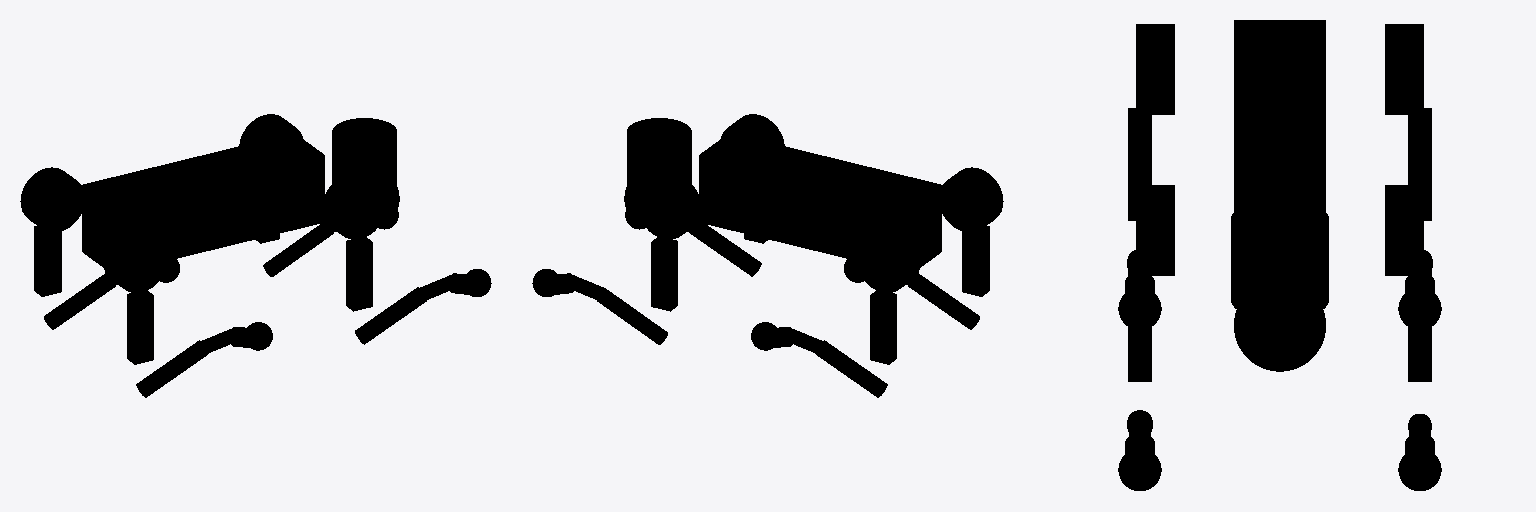
--- Facts derived from the render (not from the file) ---
Views: 3 orthographic renders of the robot side by side, from view 1: azimuth 30°, elevation 25°; view 2: azimuth 150°, elevation 25°; view 3: azimuth 270°, elevation 25°.
Model go2 with 29 links and 28 joints (12 revolute, 16 fixed), rooted at base, posed all joints at 0 but 4 set to mid-range because 0 is outside their limits (FL_calf_joint = -1.78, FR_calf_joint = -1.78, RL_calf_joint = -1.78, RR_calf_joint = -1.78).
Links seen in each view (by area): view 1: base, Head_upper, RR_hip, FR_hip, RL_hip, RR_thigh, FR_thigh, RL_thigh, FR_calf, RR_calf, RL_calf, FL_calf (+1 smaller); view 2: base, Head_upper, RL_hip, FL_hip, RR_hip, RL_thigh, FL_thigh, RR_thigh, RL_calf, RR_calf, FR_calf, FL_calf (+2 smaller); view 3: base, Head_upper, Head_lower, FL_hip, FR_hip, RL_hip, RR_hip, FL_thigh, FR_thigh, RL_thigh, RR_thigh, FL_foot (+1 smaller).
Link boxes in pixels (left/top/right/bottom): base: left=82, top=133, right=324, bottom=267; Head_upper: left=332, top=118, right=396, bottom=195; RR_hip: left=103, top=228, right=167, bottom=292; FR_hip: left=322, top=174, right=386, bottom=239; RL_hip: left=20, top=167, right=81, bottom=232; RR_thigh: left=127, top=291, right=153, bottom=364; FR_thigh: left=346, top=237, right=372, bottom=311; RL_thigh: left=34, top=226, right=61, bottom=296; FR_calf: left=355, top=287, right=426, bottom=344; RR_calf: left=136, top=340, right=208, bottom=397; RL_calf: left=44, top=273, right=115, bottom=329; FL_calf: left=263, top=222, right=333, bottom=276; base: left=699, top=133, right=941, bottom=267; Head_upper: left=627, top=118, right=691, bottom=195; RL_hip: left=856, top=228, right=920, bottom=292; FL_hip: left=637, top=174, right=701, bottom=239; RR_hip: left=942, top=167, right=1003, bottom=232; RL_thigh: left=870, top=291, right=896, bottom=364; FL_thigh: left=651, top=237, right=677, bottom=311; RR_thigh: left=962, top=226, right=989, bottom=296; RL_calf: left=815, top=340, right=887, bottom=397; RR_calf: left=908, top=273, right=979, bottom=329; FR_calf: left=689, top=222, right=761, bottom=276; FL_calf: left=597, top=289, right=667, bottom=344; base: left=1234, top=20, right=1325, bottom=210; Head_upper: left=1231, top=199, right=1328, bottom=320; Head_lower: left=1234, top=310, right=1325, bottom=371; FL_hip: left=1385, top=185, right=1423, bottom=275; FR_hip: left=1136, top=185, right=1174, bottom=275; RL_hip: left=1385, top=24, right=1423, bottom=114; RR_hip: left=1136, top=24, right=1174, bottom=114; FL_thigh: left=1408, top=269, right=1431, bottom=381; FR_thigh: left=1128, top=269, right=1151, bottom=381; RL_thigh: left=1408, top=108, right=1431, bottom=220; RR_thigh: left=1128, top=108, right=1151, bottom=220; FL_foot: left=1398, top=448, right=1441, bottom=490.
Bounding box of the posed robot: 0.6636 × 0.328 × 0.2851 m (x, y, z).
Geometry: primitives only (box / cylinder / sphere), no mesh files.

robot.urdf — go2:
<?xml version="0.0" ?>
<robot name="go2">
	<link name="base">
		<inertial>
			<origin rpy="0.00000 0.00000 0.00000" xyz="0.02111 0.00000 -0.00537"/>
			<mass value="6.92100"/>
			<inertia ixx="0.02448" ixy="0.00012" ixz="0.00148" iyy="0.09808" iyz="-0.00003" izz="0.10700"/>
		</inertial>
		<visual>
			<origin rpy="0.00000 0.00000 0.00000" xyz="0.00000 0.00000 0.00000"/>
			<geometry>
				<box size="0.37620 0.09350 0.11400"/>
			</geometry>
			<material name="">
				<color rgba="0.00000 0.00000 0.00000 0.50000" />
			</material>
		</visual>
		<collision>
			<origin rpy="0.00000 0.00000 0.00000" xyz="0.00000 0.00000 0.00000"/>
			<geometry>
				<box size="0.37620 0.09350 0.11400"/>
			</geometry>
		</collision>
	</link>
	<link name="Head_upper">
		<inertial>
			<origin rpy="0.00000 0.00000 0.00000" xyz="0.00000 0.00000 0.00000"/>
			<mass value="0.00100"/>
			<inertia ixx="0.00001" ixy="0.00000" ixz="0.00000" iyy="0.00001" iyz="0.00000" izz="0.00001"/>
		</inertial>
		<visual>
			<origin rpy="0.00000 0.00000 0.00000" xyz="0.00000 0.00000 0.00000"/>
			<geometry>
				<cylinder length="0.09000" radius="0.05000"/>
			</geometry>
			<material name="">
				<color rgba="0.00000 0.00000 0.00000 0.50000" />
			</material>
		</visual>
		<collision>
			<origin rpy="0.00000 0.00000 0.00000" xyz="0.00000 0.00000 0.00000"/>
			<geometry>
				<cylinder length="0.09000" radius="0.05000"/>
			</geometry>
		</collision>
	</link>
	<link name="Head_lower">
		<inertial>
			<origin rpy="0.00000 0.00000 0.00000" xyz="0.00000 0.00000 0.00000"/>
			<mass value="0.00100"/>
			<inertia ixx="0.00001" ixy="0.00000" ixz="0.00000" iyy="0.00001" iyz="0.00000" izz="0.00001"/>
		</inertial>
		<visual>
			<origin rpy="0.00000 0.00000 0.00000" xyz="0.00000 0.00000 0.00000"/>
			<geometry>
				<sphere radius="0.04700"/>
			</geometry>
			<material name="">
				<color rgba="0.00000 0.00000 0.00000 0.50000" />
			</material>
		</visual>
		<collision>
			<origin rpy="0.00000 0.00000 0.00000" xyz="0.00000 0.00000 0.00000"/>
			<geometry>
				<sphere radius="0.04700"/>
			</geometry>
		</collision>
	</link>
	<link name="FL_hip">
		<inertial>
			<origin rpy="0.00000 0.00000 0.00000" xyz="-0.00540 0.00194 -0.00011"/>
			<mass value="0.67800"/>
			<inertia ixx="0.00048" ixy="-0.00000" ixz="0.00000" iyy="0.00088" iyz="-0.00000" izz="0.00060"/>
		</inertial>
		<visual>
			<origin rpy="1.57080 0.00000 0.00000" xyz="0.00000 0.08000 0.00000"/>
			<geometry>
				<cylinder length="0.04000" radius="0.04600"/>
			</geometry>
			<material name="">
				<color rgba="0.00000 0.00000 0.00000 0.50000" />
			</material>
		</visual>
		<collision>
			<origin rpy="1.57080 0.00000 0.00000" xyz="0.00000 0.08000 0.00000"/>
			<geometry>
				<cylinder length="0.04000" radius="0.04600"/>
			</geometry>
		</collision>
	</link>
	<link name="FL_thigh">
		<inertial>
			<origin rpy="0.00000 0.00000 0.00000" xyz="-0.00374 -0.02230 -0.03270"/>
			<mass value="1.15200"/>
			<inertia ixx="0.00584" ixy="0.00009" ixz="-0.00029" iyy="0.00580" iyz="0.00081" izz="0.00103"/>
		</inertial>
		<visual>
			<origin rpy="0.00000 1.57080 0.00000" xyz="0.00000 0.00000 -0.10650"/>
			<geometry>
				<box size="0.11000 0.02450 0.03400"/>
			</geometry>
			<material name="">
				<color rgba="0.00000 0.00000 0.00000 0.50000" />
			</material>
		</visual>
		<collision>
			<origin rpy="0.00000 1.57080 0.00000" xyz="0.00000 0.00000 -0.10650"/>
			<geometry>
				<box size="0.11000 0.02450 0.03400"/>
			</geometry>
		</collision>
	</link>
	<link name="FL_calf">
		<inertial>
			<origin rpy="0.00000 0.00000 0.00000" xyz="0.00548 -0.00097 -0.11500"/>
			<mass value="0.15400"/>
			<inertia ixx="0.00108" ixy="0.00000" ixz="0.00002" iyy="0.00110" iyz="0.00001" izz="0.00003"/>
		</inertial>
		<visual>
			<origin rpy="0.00000 -0.21000 0.00000" xyz="0.00800 0.00000 -0.06000"/>
			<geometry>
				<cylinder length="0.12000" radius="0.01200"/>
			</geometry>
			<material name="">
				<color rgba="0.00000 0.00000 0.00000 0.50000" />
			</material>
		</visual>
		<collision>
			<origin rpy="0.00000 -0.21000 0.00000" xyz="0.00800 0.00000 -0.06000"/>
			<geometry>
				<cylinder length="0.12000" radius="0.01200"/>
			</geometry>
		</collision>
	</link>
	<link name="FL_calflower">
		<inertial>
			<origin rpy="0.00000 0.00000 0.00000" xyz="0.00000 0.00000 0.00000"/>
			<mass value="0.00100"/>
			<inertia ixx="0.00001" ixy="0.00000" ixz="0.00000" iyy="0.00001" iyz="0.00000" izz="0.00001"/>
		</inertial>
		<visual>
			<origin rpy="0.00000 0.00000 0.00000" xyz="0.00000 0.00000 0.00000"/>
			<geometry>
				<cylinder length="0.06500" radius="0.01100"/>
			</geometry>
			<material name="">
				<color rgba="0.00000 0.00000 0.00000 0.50000" />
			</material>
		</visual>
		<collision>
			<origin rpy="0.00000 0.00000 0.00000" xyz="0.00000 0.00000 0.00000"/>
			<geometry>
				<cylinder length="0.06500" radius="0.01100"/>
			</geometry>
		</collision>
	</link>
	<link name="FL_calflower1">
		<inertial>
			<origin rpy="0.00000 0.00000 0.00000" xyz="0.00000 0.00000 0.00000"/>
			<mass value="0.00100"/>
			<inertia ixx="0.00001" ixy="0.00000" ixz="0.00000" iyy="0.00001" iyz="0.00000" izz="0.00001"/>
		</inertial>
		<visual>
			<origin rpy="0.00000 0.00000 0.00000" xyz="0.00000 0.00000 0.00000"/>
			<geometry>
				<cylinder length="0.03000" radius="0.01550"/>
			</geometry>
			<material name="">
				<color rgba="0.00000 0.00000 0.00000 0.50000" />
			</material>
		</visual>
		<collision>
			<origin rpy="0.00000 0.00000 0.00000" xyz="0.00000 0.00000 0.00000"/>
			<geometry>
				<cylinder length="0.03000" radius="0.01550"/>
			</geometry>
		</collision>
	</link>
	<link name="FL_foot">
		<inertial>
			<origin rpy="0.00000 0.00000 0.00000" xyz="0.00000 0.00000 0.00000"/>
			<mass value="0.04000"/>
			<inertia ixx="0.00001" ixy="0.00000" ixz="0.00000" iyy="0.00001" iyz="0.00000" izz="0.00001"/>
		</inertial>
		<visual>
			<origin rpy="0.00000 0.00000 0.00000" xyz="-0.00200 0.00000 0.00000"/>
			<geometry>
				<sphere radius="0.02200"/>
			</geometry>
			<material name="">
				<color rgba="0.00000 0.00000 0.00000 0.50000" />
			</material>
		</visual>
		<collision>
			<origin rpy="0.00000 0.00000 0.00000" xyz="-0.00200 0.00000 0.00000"/>
			<geometry>
				<sphere radius="0.02200"/>
			</geometry>
		</collision>
	</link>
	<link name="FR_hip">
		<inertial>
			<origin rpy="0.00000 0.00000 0.00000" xyz="-0.00540 -0.00194 -0.00011"/>
			<mass value="0.67800"/>
			<inertia ixx="0.00048" ixy="0.00000" ixz="0.00000" iyy="0.00088" iyz="0.00000" izz="0.00060"/>
		</inertial>
		<visual>
			<origin rpy="1.57080 0.00000 0.00000" xyz="0.00000 -0.08000 0.00000"/>
			<geometry>
				<cylinder length="0.04000" radius="0.04600"/>
			</geometry>
			<material name="">
				<color rgba="0.00000 0.00000 0.00000 0.50000" />
			</material>
		</visual>
		<collision>
			<origin rpy="1.57080 0.00000 0.00000" xyz="0.00000 -0.08000 0.00000"/>
			<geometry>
				<cylinder length="0.04000" radius="0.04600"/>
			</geometry>
		</collision>
	</link>
	<link name="FR_thigh">
		<inertial>
			<origin rpy="0.00000 0.00000 0.00000" xyz="-0.00374 0.02230 -0.03270"/>
			<mass value="1.15200"/>
			<inertia ixx="0.00584" ixy="-0.00009" ixz="-0.00029" iyy="0.00580" iyz="-0.00081" izz="0.00103"/>
		</inertial>
		<visual>
			<origin rpy="0.00000 1.57080 0.00000" xyz="0.00000 0.00000 -0.10650"/>
			<geometry>
				<box size="0.11000 0.02450 0.03400"/>
			</geometry>
			<material name="">
				<color rgba="0.00000 0.00000 0.00000 0.50000" />
			</material>
		</visual>
		<collision>
			<origin rpy="0.00000 1.57080 0.00000" xyz="0.00000 0.00000 -0.10650"/>
			<geometry>
				<box size="0.11000 0.02450 0.03400"/>
			</geometry>
		</collision>
	</link>
	<link name="FR_calf">
		<inertial>
			<origin rpy="0.00000 0.00000 0.00000" xyz="0.00548 0.00097 -0.11500"/>
			<mass value="0.15400"/>
			<inertia ixx="0.00108" ixy="-0.00000" ixz="0.00002" iyy="0.00110" iyz="-0.00001" izz="0.00003"/>
		</inertial>
		<visual>
			<origin rpy="0.00000 -0.20000 0.00000" xyz="0.01000 0.00000 -0.06000"/>
			<geometry>
				<cylinder length="0.12000" radius="0.01300"/>
			</geometry>
			<material name="">
				<color rgba="0.00000 0.00000 0.00000 0.50000" />
			</material>
		</visual>
		<collision>
			<origin rpy="0.00000 -0.20000 0.00000" xyz="0.01000 0.00000 -0.06000"/>
			<geometry>
				<cylinder length="0.12000" radius="0.01300"/>
			</geometry>
		</collision>
	</link>
	<link name="FR_calflower">
		<inertial>
			<origin rpy="0.00000 0.00000 0.00000" xyz="0.00000 0.00000 0.00000"/>
			<mass value="0.00100"/>
			<inertia ixx="0.00001" ixy="0.00000" ixz="0.00000" iyy="0.00001" iyz="0.00000" izz="0.00001"/>
		</inertial>
		<visual>
			<origin rpy="0.00000 0.00000 0.00000" xyz="0.00000 0.00000 0.00000"/>
			<geometry>
				<cylinder length="0.06500" radius="0.01100"/>
			</geometry>
			<material name="">
				<color rgba="0.00000 0.00000 0.00000 0.50000" />
			</material>
		</visual>
		<collision>
			<origin rpy="0.00000 0.00000 0.00000" xyz="0.00000 0.00000 0.00000"/>
			<geometry>
				<cylinder length="0.06500" radius="0.01100"/>
			</geometry>
		</collision>
	</link>
	<link name="FR_calflower1">
		<inertial>
			<origin rpy="0.00000 0.00000 0.00000" xyz="0.00000 0.00000 0.00000"/>
			<mass value="0.00100"/>
			<inertia ixx="0.00001" ixy="0.00000" ixz="0.00000" iyy="0.00001" iyz="0.00000" izz="0.00001"/>
		</inertial>
		<visual>
			<origin rpy="0.00000 0.00000 0.00000" xyz="0.00000 0.00000 0.00000"/>
			<geometry>
				<cylinder length="0.03000" radius="0.01550"/>
			</geometry>
			<material name="">
				<color rgba="0.00000 0.00000 0.00000 0.50000" />
			</material>
		</visual>
		<collision>
			<origin rpy="0.00000 0.00000 0.00000" xyz="0.00000 0.00000 0.00000"/>
			<geometry>
				<cylinder length="0.03000" radius="0.01550"/>
			</geometry>
		</collision>
	</link>
	<link name="FR_foot">
		<inertial>
			<origin rpy="0.00000 0.00000 0.00000" xyz="0.00000 0.00000 0.00000"/>
			<mass value="0.04000"/>
			<inertia ixx="0.00001" ixy="0.00000" ixz="0.00000" iyy="0.00001" iyz="0.00000" izz="0.00001"/>
		</inertial>
		<visual>
			<origin rpy="0.00000 0.00000 0.00000" xyz="-0.00200 0.00000 0.00000"/>
			<geometry>
				<sphere radius="0.02200"/>
			</geometry>
			<material name="">
				<color rgba="0.00000 0.00000 0.00000 0.50000" />
			</material>
		</visual>
		<collision>
			<origin rpy="0.00000 0.00000 0.00000" xyz="-0.00200 0.00000 0.00000"/>
			<geometry>
				<sphere radius="0.02200"/>
			</geometry>
		</collision>
	</link>
	<link name="RL_hip">
		<inertial>
			<origin rpy="0.00000 0.00000 0.00000" xyz="0.00540 0.00194 -0.00011"/>
			<mass value="0.67800"/>
			<inertia ixx="0.00048" ixy="0.00000" ixz="-0.00000" iyy="0.00088" iyz="-0.00000" izz="0.00060"/>
		</inertial>
		<visual>
			<origin rpy="1.57080 0.00000 0.00000" xyz="0.00000 0.08000 0.00000"/>
			<geometry>
				<cylinder length="0.04000" radius="0.04600"/>
			</geometry>
			<material name="">
				<color rgba="0.00000 0.00000 0.00000 0.50000" />
			</material>
		</visual>
		<collision>
			<origin rpy="1.57080 0.00000 0.00000" xyz="0.00000 0.08000 0.00000"/>
			<geometry>
				<cylinder length="0.04000" radius="0.04600"/>
			</geometry>
		</collision>
	</link>
	<link name="RL_thigh">
		<inertial>
			<origin rpy="0.00000 0.00000 0.00000" xyz="-0.00374 -0.02230 -0.03270"/>
			<mass value="1.15200"/>
			<inertia ixx="0.00584" ixy="0.00009" ixz="-0.00029" iyy="0.00580" iyz="0.00081" izz="0.00103"/>
		</inertial>
		<visual>
			<origin rpy="0.00000 1.57080 0.00000" xyz="0.00000 0.00000 -0.10650"/>
			<geometry>
				<box size="0.11000 0.02450 0.03400"/>
			</geometry>
			<material name="">
				<color rgba="0.00000 0.00000 0.00000 0.50000" />
			</material>
		</visual>
		<collision>
			<origin rpy="0.00000 1.57080 0.00000" xyz="0.00000 0.00000 -0.10650"/>
			<geometry>
				<box size="0.11000 0.02450 0.03400"/>
			</geometry>
		</collision>
	</link>
	<link name="RL_calf">
		<inertial>
			<origin rpy="0.00000 0.00000 0.00000" xyz="0.00548 -0.00097 -0.11500"/>
			<mass value="0.15400"/>
			<inertia ixx="0.00108" ixy="0.00000" ixz="0.00002" iyy="0.00110" iyz="0.00001" izz="0.00003"/>
		</inertial>
		<visual>
			<origin rpy="0.00000 -0.20000 0.00000" xyz="0.01000 0.00000 -0.06000"/>
			<geometry>
				<cylinder length="0.12000" radius="0.01300"/>
			</geometry>
			<material name="">
				<color rgba="0.00000 0.00000 0.00000 0.50000" />
			</material>
		</visual>
		<collision>
			<origin rpy="0.00000 -0.20000 0.00000" xyz="0.01000 0.00000 -0.06000"/>
			<geometry>
				<cylinder length="0.12000" radius="0.01300"/>
			</geometry>
		</collision>
	</link>
	<link name="RL_calflower">
		<inertial>
			<origin rpy="0.00000 0.00000 0.00000" xyz="0.00000 0.00000 0.00000"/>
			<mass value="0.00100"/>
			<inertia ixx="0.00001" ixy="0.00000" ixz="0.00000" iyy="0.00001" iyz="0.00000" izz="0.00001"/>
		</inertial>
		<visual>
			<origin rpy="0.00000 0.00000 0.00000" xyz="0.00000 0.00000 0.00000"/>
			<geometry>
				<cylinder length="0.06500" radius="0.01100"/>
			</geometry>
			<material name="">
				<color rgba="0.00000 0.00000 0.00000 0.50000" />
			</material>
		</visual>
		<collision>
			<origin rpy="0.00000 0.00000 0.00000" xyz="0.00000 0.00000 0.00000"/>
			<geometry>
				<cylinder length="0.06500" radius="0.01100"/>
			</geometry>
		</collision>
	</link>
	<link name="RL_calflower1">
		<inertial>
			<origin rpy="0.00000 0.00000 0.00000" xyz="0.00000 0.00000 0.00000"/>
			<mass value="0.00100"/>
			<inertia ixx="0.00001" ixy="0.00000" ixz="0.00000" iyy="0.00001" iyz="0.00000" izz="0.00001"/>
		</inertial>
		<visual>
			<origin rpy="0.00000 0.00000 0.00000" xyz="0.00000 0.00000 0.00000"/>
			<geometry>
				<cylinder length="0.03000" radius="0.01550"/>
			</geometry>
			<material name="">
				<color rgba="0.00000 0.00000 0.00000 0.50000" />
			</material>
		</visual>
		<collision>
			<origin rpy="0.00000 0.00000 0.00000" xyz="0.00000 0.00000 0.00000"/>
			<geometry>
				<cylinder length="0.03000" radius="0.01550"/>
			</geometry>
		</collision>
	</link>
	<link name="RL_foot">
		<inertial>
			<origin rpy="0.00000 0.00000 0.00000" xyz="0.00000 0.00000 0.00000"/>
			<mass value="0.04000"/>
			<inertia ixx="0.00001" ixy="0.00000" ixz="0.00000" iyy="0.00001" iyz="0.00000" izz="0.00001"/>
		</inertial>
		<visual>
			<origin rpy="0.00000 0.00000 0.00000" xyz="-0.00200 0.00000 0.00000"/>
			<geometry>
				<sphere radius="0.02200"/>
			</geometry>
			<material name="">
				<color rgba="0.00000 0.00000 0.00000 0.50000" />
			</material>
		</visual>
		<collision>
			<origin rpy="0.00000 0.00000 0.00000" xyz="-0.00200 0.00000 0.00000"/>
			<geometry>
				<sphere radius="0.02200"/>
			</geometry>
		</collision>
	</link>
	<link name="RR_hip">
		<inertial>
			<origin rpy="0.00000 0.00000 0.00000" xyz="0.00540 -0.00194 -0.00011"/>
			<mass value="0.67800"/>
			<inertia ixx="0.00048" ixy="-0.00000" ixz="-0.00000" iyy="0.00088" iyz="0.00000" izz="0.00060"/>
		</inertial>
		<visual>
			<origin rpy="1.57080 0.00000 0.00000" xyz="0.00000 -0.08000 0.00000"/>
			<geometry>
				<cylinder length="0.04000" radius="0.04600"/>
			</geometry>
			<material name="">
				<color rgba="0.00000 0.00000 0.00000 0.50000" />
			</material>
		</visual>
		<collision>
			<origin rpy="1.57080 0.00000 0.00000" xyz="0.00000 -0.08000 0.00000"/>
			<geometry>
				<cylinder length="0.04000" radius="0.04600"/>
			</geometry>
		</collision>
	</link>
	<link name="RR_thigh">
		<inertial>
			<origin rpy="0.00000 0.00000 0.00000" xyz="-0.00374 0.02230 -0.03270"/>
			<mass value="1.15200"/>
			<inertia ixx="0.00584" ixy="-0.00009" ixz="-0.00029" iyy="0.00580" iyz="-0.00081" izz="0.00103"/>
		</inertial>
		<visual>
			<origin rpy="0.00000 1.57080 0.00000" xyz="0.00000 0.00000 -0.10650"/>
			<geometry>
				<box size="0.11000 0.02450 0.03400"/>
			</geometry>
			<material name="">
				<color rgba="0.00000 0.00000 0.00000 0.50000" />
			</material>
		</visual>
		<collision>
			<origin rpy="0.00000 1.57080 0.00000" xyz="0.00000 0.00000 -0.10650"/>
			<geometry>
				<box size="0.11000 0.02450 0.03400"/>
			</geometry>
		</collision>
	</link>
	<link name="RR_calf">
		<inertial>
			<origin rpy="0.00000 0.00000 0.00000" xyz="0.00548 0.00097 -0.11500"/>
			<mass value="0.15400"/>
			<inertia ixx="0.00108" ixy="-0.00000" ixz="0.00002" iyy="0.00110" iyz="-0.00001" izz="0.00003"/>
		</inertial>
		<visual>
			<origin rpy="0.00000 -0.20000 0.00000" xyz="0.01000 0.00000 -0.06000"/>
			<geometry>
				<cylinder length="0.12000" radius="0.01300"/>
			</geometry>
			<material name="">
				<color rgba="0.00000 0.00000 0.00000 0.50000" />
			</material>
		</visual>
		<collision>
			<origin rpy="0.00000 -0.20000 0.00000" xyz="0.01000 0.00000 -0.06000"/>
			<geometry>
				<cylinder length="0.12000" radius="0.01300"/>
			</geometry>
		</collision>
	</link>
	<link name="RR_calflower">
		<inertial>
			<origin rpy="0.00000 0.00000 0.00000" xyz="0.00000 0.00000 0.00000"/>
			<mass value="0.00100"/>
			<inertia ixx="0.00001" ixy="0.00000" ixz="0.00000" iyy="0.00001" iyz="0.00000" izz="0.00001"/>
		</inertial>
		<visual>
			<origin rpy="0.00000 0.00000 0.00000" xyz="0.00000 0.00000 0.00000"/>
			<geometry>
				<cylinder length="0.06500" radius="0.01100"/>
			</geometry>
			<material name="">
				<color rgba="0.00000 0.00000 0.00000 0.50000" />
			</material>
		</visual>
		<collision>
			<origin rpy="0.00000 0.00000 0.00000" xyz="0.00000 0.00000 0.00000"/>
			<geometry>
				<cylinder length="0.06500" radius="0.01100"/>
			</geometry>
		</collision>
	</link>
	<link name="RR_calflower1">
		<inertial>
			<origin rpy="0.00000 0.00000 0.00000" xyz="0.00000 0.00000 0.00000"/>
			<mass value="0.00100"/>
			<inertia ixx="0.00001" ixy="0.00000" ixz="0.00000" iyy="0.00001" iyz="0.00000" izz="0.00001"/>
		</inertial>
		<visual>
			<origin rpy="0.00000 0.00000 0.00000" xyz="0.00000 0.00000 0.00000"/>
			<geometry>
				<cylinder length="0.03000" radius="0.01550"/>
			</geometry>
			<material name="">
				<color rgba="0.00000 0.00000 0.00000 0.50000" />
			</material>
		</visual>
		<collision>
			<origin rpy="0.00000 0.00000 0.00000" xyz="0.00000 0.00000 0.00000"/>
			<geometry>
				<cylinder length="0.03000" radius="0.01550"/>
			</geometry>
		</collision>
	</link>
	<link name="RR_foot">
		<inertial>
			<origin rpy="0.00000 0.00000 0.00000" xyz="0.00000 0.00000 0.00000"/>
			<mass value="0.04000"/>
			<inertia ixx="0.00001" ixy="0.00000" ixz="0.00000" iyy="0.00001" iyz="0.00000" izz="0.00001"/>
		</inertial>
		<visual>
			<origin rpy="0.00000 0.00000 0.00000" xyz="-0.00200 0.00000 0.00000"/>
			<geometry>
				<sphere radius="0.02200"/>
			</geometry>
			<material name="">
				<color rgba="0.00000 0.00000 0.00000 0.50000" />
			</material>
		</visual>
		<collision>
			<origin rpy="0.00000 0.00000 0.00000" xyz="-0.00200 0.00000 0.00000"/>
			<geometry>
				<sphere radius="0.02200"/>
			</geometry>
		</collision>
	</link>
	<link name="imu">
		<inertial>
			<origin rpy="0.00000 0.00000 0.00000" xyz="0.00000 0.00000 0.00000"/>
			<mass value="0.00000"/>
			<inertia ixx="0.00000" ixy="0.00000" ixz="0.00000" iyy="0.00000" iyz="0.00000" izz="0.00000"/>
		</inertial>
	</link>
	<link name="radar">
		<inertial>
			<origin rpy="0.00000 0.00000 0.00000" xyz="0.00000 0.00000 0.00000"/>
			<mass value="0.00000"/>
			<inertia ixx="0.00000" ixy="0.00000" ixz="0.00000" iyy="0.00000" iyz="0.00000" izz="0.00000"/>
		</inertial>
	</link>
	<joint name="Head_upper_joint" type="fixed">
		<parent link="base"/>
		<child link="Head_upper"/>
		<dynamics damping="0.00000" friction="0.00000"/>
		<origin rpy="0.00000 0.00000 0.00000" xyz="0.28500 0.00000 0.01000"/>
		<axis xyz="0.00000 0.00000 0.00000"/>
	</joint>
	<joint name="Head_lower_joint" type="fixed">
		<parent link="Head_upper"/>
		<child link="Head_lower"/>
		<dynamics damping="0.00000" friction="0.00000"/>
		<origin rpy="0.00000 0.00000 0.00000" xyz="0.00800 0.00000 -0.07000"/>
		<axis xyz="0.00000 0.00000 0.00000"/>
	</joint>
	<joint name="FL_hip_joint" type="revolute">
		<parent link="base"/>
		<child link="FL_hip"/>
		<limit effort="23.70000" lower="-1.04720" upper="1.04720" velocity="30.10000"/>
		<dynamics damping="0.00000" friction="0.00000"/>
		<origin rpy="0.00000 0.00000 0.00000" xyz="0.19340 0.04650 0.00000"/>
		<axis xyz="1.00000 0.00000 0.00000"/>
	</joint>
	<joint name="FL_thigh_joint" type="revolute">
		<parent link="FL_hip"/>
		<child link="FL_thigh"/>
		<limit effort="23.70000" lower="-1.57080" upper="3.49070" velocity="30.10000"/>
		<dynamics damping="0.00000" friction="0.00000"/>
		<origin rpy="0.00000 0.00000 0.00000" xyz="0.00000 0.09550 0.00000"/>
		<axis xyz="0.00000 1.00000 0.00000"/>
	</joint>
	<joint name="FL_calf_joint" type="revolute">
		<parent link="FL_thigh"/>
		<child link="FL_calf"/>
		<limit effort="35.55000" lower="-2.72270" upper="-0.83776" velocity="20.07000"/>
		<dynamics damping="0.00000" friction="0.00000"/>
		<origin rpy="0.00000 0.00000 0.00000" xyz="0.00000 0.00000 -0.21300"/>
		<axis xyz="0.00000 1.00000 0.00000"/>
	</joint>
	<joint name="FL_calflower_joint" type="fixed">
		<parent link="FL_calf"/>
		<child link="FL_calflower"/>
		<dynamics damping="0.00000" friction="0.00000"/>
		<origin rpy="0.00000 0.05000 0.00000" xyz="0.02000 0.00000 -0.14800"/>
		<axis xyz="0.00000 0.00000 0.00000"/>
	</joint>
	<joint name="FL_calflower1_joint" type="fixed">
		<parent link="FL_calflower"/>
		<child link="FL_calflower1"/>
		<dynamics damping="0.00000" friction="0.00000"/>
		<origin rpy="0.00000 0.48000 0.00000" xyz="-0.01000 0.00000 -0.04000"/>
		<axis xyz="0.00000 0.00000 0.00000"/>
	</joint>
	<joint name="FL_foot_joint" type="fixed">
		<parent link="FL_calf"/>
		<child link="FL_foot"/>
		<dynamics damping="0.00000" friction="0.00000"/>
		<origin rpy="0.00000 0.00000 0.00000" xyz="0.00000 0.00000 -0.21300"/>
		<axis xyz="0.00000 0.00000 0.00000"/>
	</joint>
	<joint name="FR_hip_joint" type="revolute">
		<parent link="base"/>
		<child link="FR_hip"/>
		<limit effort="23.70000" lower="-1.04720" upper="1.04720" velocity="30.10000"/>
		<dynamics damping="0.00000" friction="0.00000"/>
		<origin rpy="0.00000 0.00000 0.00000" xyz="0.19340 -0.04650 0.00000"/>
		<axis xyz="1.00000 0.00000 0.00000"/>
	</joint>
	<joint name="FR_thigh_joint" type="revolute">
		<parent link="FR_hip"/>
		<child link="FR_thigh"/>
		<limit effort="23.70000" lower="-1.57080" upper="3.49070" velocity="30.10000"/>
		<dynamics damping="0.00000" friction="0.00000"/>
		<origin rpy="0.00000 0.00000 0.00000" xyz="0.00000 -0.09550 0.00000"/>
		<axis xyz="0.00000 1.00000 0.00000"/>
	</joint>
	<joint name="FR_calf_joint" type="revolute">
		<parent link="FR_thigh"/>
		<child link="FR_calf"/>
		<limit effort="35.55000" lower="-2.72270" upper="-0.83776" velocity="20.07000"/>
		<dynamics damping="0.00000" friction="0.00000"/>
		<origin rpy="0.00000 0.00000 0.00000" xyz="0.00000 0.00000 -0.21300"/>
		<axis xyz="0.00000 1.00000 0.00000"/>
	</joint>
	<joint name="FR_calflower_joint" type="fixed">
		<parent link="FR_calf"/>
		<child link="FR_calflower"/>
		<dynamics damping="0.00000" friction="0.00000"/>
		<origin rpy="0.00000 0.05000 0.00000" xyz="0.02000 0.00000 -0.14800"/>
		<axis xyz="0.00000 0.00000 0.00000"/>
	</joint>
	<joint name="FR_calflower1_joint" type="fixed">
		<parent link="FR_calflower"/>
		<child link="FR_calflower1"/>
		<dynamics damping="0.00000" friction="0.00000"/>
		<origin rpy="0.00000 0.48000 0.00000" xyz="-0.01000 0.00000 -0.04000"/>
		<axis xyz="0.00000 0.00000 0.00000"/>
	</joint>
	<joint name="FR_foot_joint" type="fixed">
		<parent link="FR_calf"/>
		<child link="FR_foot"/>
		<dynamics damping="0.00000" friction="0.00000"/>
		<origin rpy="0.00000 0.00000 0.00000" xyz="0.00000 0.00000 -0.21300"/>
		<axis xyz="0.00000 0.00000 0.00000"/>
	</joint>
	<joint name="RL_hip_joint" type="revolute">
		<parent link="base"/>
		<child link="RL_hip"/>
		<limit effort="23.70000" lower="-1.04720" upper="1.04720" velocity="30.10000"/>
		<dynamics damping="0.00000" friction="0.00000"/>
		<origin rpy="0.00000 0.00000 0.00000" xyz="-0.19340 0.04650 0.00000"/>
		<axis xyz="1.00000 0.00000 0.00000"/>
	</joint>
	<joint name="RL_thigh_joint" type="revolute">
		<parent link="RL_hip"/>
		<child link="RL_thigh"/>
		<limit effort="23.70000" lower="-0.52360" upper="4.53790" velocity="30.10000"/>
		<dynamics damping="0.00000" friction="0.00000"/>
		<origin rpy="0.00000 0.00000 0.00000" xyz="0.00000 0.09550 0.00000"/>
		<axis xyz="0.00000 1.00000 0.00000"/>
	</joint>
	<joint name="RL_calf_joint" type="revolute">
		<parent link="RL_thigh"/>
		<child link="RL_calf"/>
		<limit effort="35.55000" lower="-2.72270" upper="-0.83776" velocity="20.07000"/>
		<dynamics damping="0.00000" friction="0.00000"/>
		<origin rpy="0.00000 0.00000 0.00000" xyz="0.00000 0.00000 -0.21300"/>
		<axis xyz="0.00000 1.00000 0.00000"/>
	</joint>
	<joint name="RL_calflower_joint" type="fixed">
		<parent link="RL_calf"/>
		<child link="RL_calflower"/>
		<dynamics damping="0.00000" friction="0.00000"/>
		<origin rpy="0.00000 0.05000 0.00000" xyz="0.02000 0.00000 -0.14800"/>
		<axis xyz="0.00000 0.00000 0.00000"/>
	</joint>
	<joint name="RL_calflower1_joint" type="fixed">
		<parent link="RL_calflower"/>
		<child link="RL_calflower1"/>
		<dynamics damping="0.00000" friction="0.00000"/>
		<origin rpy="0.00000 0.48000 0.00000" xyz="-0.01000 0.00000 -0.04000"/>
		<axis xyz="0.00000 0.00000 0.00000"/>
	</joint>
	<joint name="RL_foot_joint" type="fixed">
		<parent link="RL_calf"/>
		<child link="RL_foot"/>
		<dynamics damping="0.00000" friction="0.00000"/>
		<origin rpy="0.00000 0.00000 0.00000" xyz="0.00000 0.00000 -0.21300"/>
		<axis xyz="0.00000 0.00000 0.00000"/>
	</joint>
	<joint name="RR_hip_joint" type="revolute">
		<parent link="base"/>
		<child link="RR_hip"/>
		<limit effort="23.70000" lower="-1.04720" upper="1.04720" velocity="30.10000"/>
		<dynamics damping="0.00000" friction="0.00000"/>
		<origin rpy="0.00000 0.00000 0.00000" xyz="-0.19340 -0.04650 0.00000"/>
		<axis xyz="1.00000 0.00000 0.00000"/>
	</joint>
	<joint name="RR_thigh_joint" type="revolute">
		<parent link="RR_hip"/>
		<child link="RR_thigh"/>
		<limit effort="23.70000" lower="-0.52360" upper="4.53790" velocity="30.10000"/>
		<dynamics damping="0.00000" friction="0.00000"/>
		<origin rpy="0.00000 0.00000 0.00000" xyz="0.00000 -0.09550 0.00000"/>
		<axis xyz="0.00000 1.00000 0.00000"/>
	</joint>
	<joint name="RR_calf_joint" type="revolute">
		<parent link="RR_thigh"/>
		<child link="RR_calf"/>
		<limit effort="35.55000" lower="-2.72270" upper="-0.83776" velocity="20.07000"/>
		<dynamics damping="0.00000" friction="0.00000"/>
		<origin rpy="0.00000 0.00000 0.00000" xyz="0.00000 0.00000 -0.21300"/>
		<axis xyz="0.00000 1.00000 0.00000"/>
	</joint>
	<joint name="RR_calflower_joint" type="fixed">
		<parent link="RR_calf"/>
		<child link="RR_calflower"/>
		<dynamics damping="0.00000" friction="0.00000"/>
		<origin rpy="0.00000 0.05000 0.00000" xyz="0.02000 0.00000 -0.14800"/>
		<axis xyz="0.00000 0.00000 0.00000"/>
	</joint>
	<joint name="RR_calflower1_joint" type="fixed">
		<parent link="RR_calflower"/>
		<child link="RR_calflower1"/>
		<dynamics damping="0.00000" friction="0.00000"/>
		<origin rpy="0.00000 0.48000 0.00000" xyz="-0.01000 0.00000 -0.04000"/>
		<axis xyz="0.00000 0.00000 0.00000"/>
	</joint>
	<joint name="RR_foot_joint" type="fixed">
		<parent link="RR_calf"/>
		<child link="RR_foot"/>
		<dynamics damping="0.00000" friction="0.00000"/>
		<origin rpy="0.00000 0.00000 0.00000" xyz="0.00000 0.00000 -0.21300"/>
		<axis xyz="0.00000 0.00000 0.00000"/>
	</joint>
	<joint name="imu_joint" type="fixed">
		<parent link="base"/>
		<child link="imu"/>
		<dynamics damping="0.00000" friction="0.00000"/>
		<origin rpy="0.00000 0.00000 0.00000" xyz="-0.02557 0.00000 0.04232"/>
		<axis xyz="0.00000 0.00000 0.00000"/>
	</joint>
	<joint name="radar_joint" type="fixed">
		<parent link="base"/>
		<child link="radar"/>
		<dynamics damping="0.00000" friction="0.00000"/>
		<origin rpy="0.00000 2.87820 0.00000" xyz="0.28945 0.00000 -0.04682"/>
		<axis xyz="0.00000 0.00000 0.00000"/>
	</joint>
</robot>
